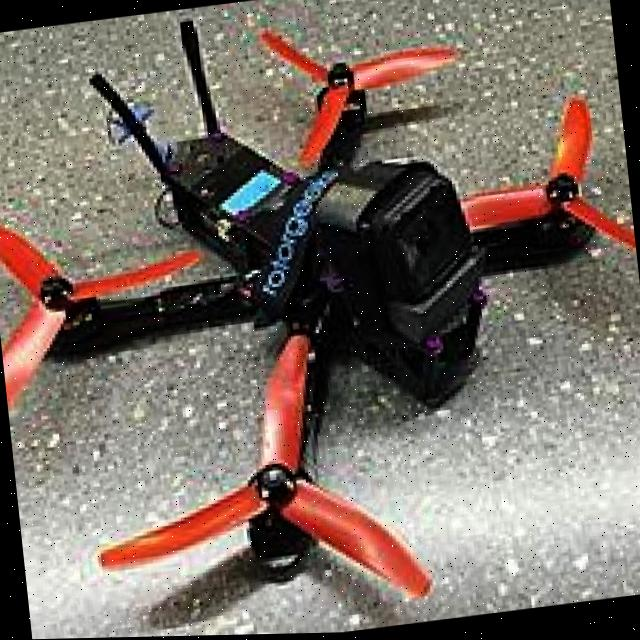drone: (0, 2, 640, 640)
